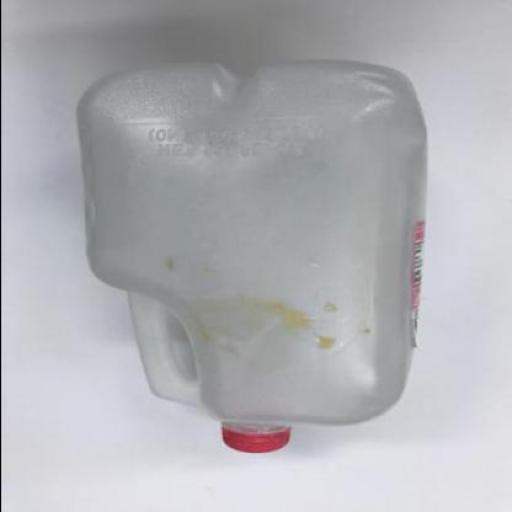plastic: (76, 63, 428, 453), (224, 424, 290, 454)
